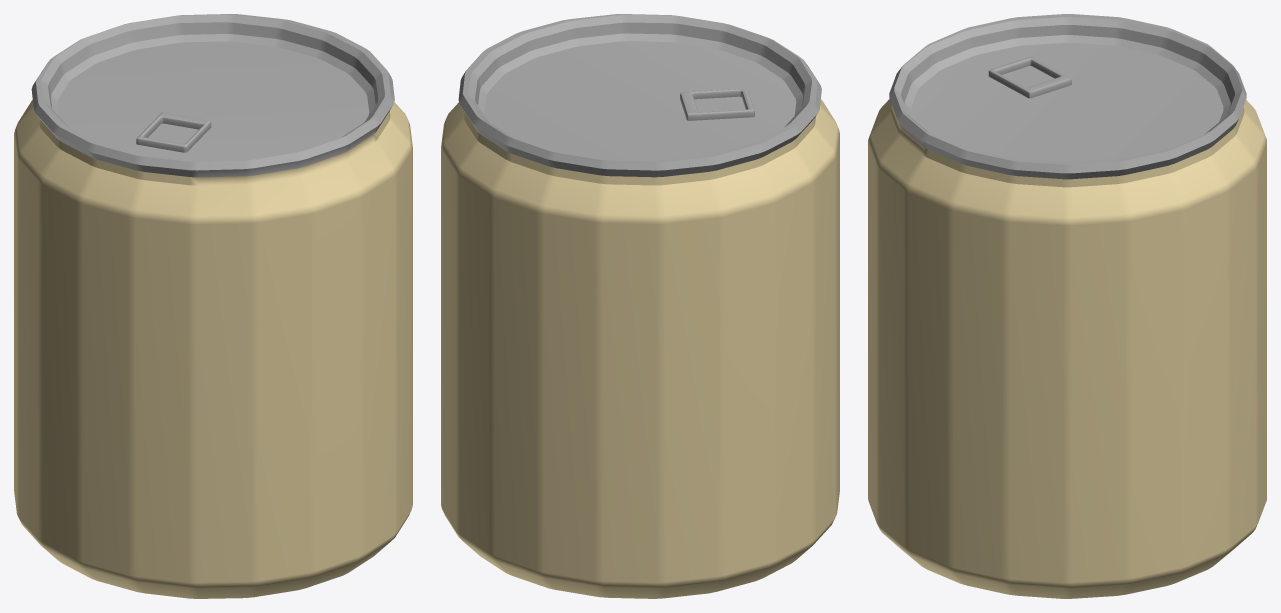
Rendered from Ürün27.fbx.
3 renders of one model, left to right at view 1: azimuth 30°, elevation 25°; view 2: azimuth 150°, elevation 25°; view 3: azimuth 270°, elevation 25°, orthographic.
Visible parts, largest first — view 1: Ürün5; view 2: Ürün5; view 3: Ürün5.
Boxes of the visible parts, box(x1,y1,x2,y2) form: Ürün5: box(14, 14, 412, 598); Ürün5: box(441, 14, 839, 598); Ürün5: box(868, 14, 1266, 598).
Size of the model in its own units: 11.57 by 14.02 by 11.57.
